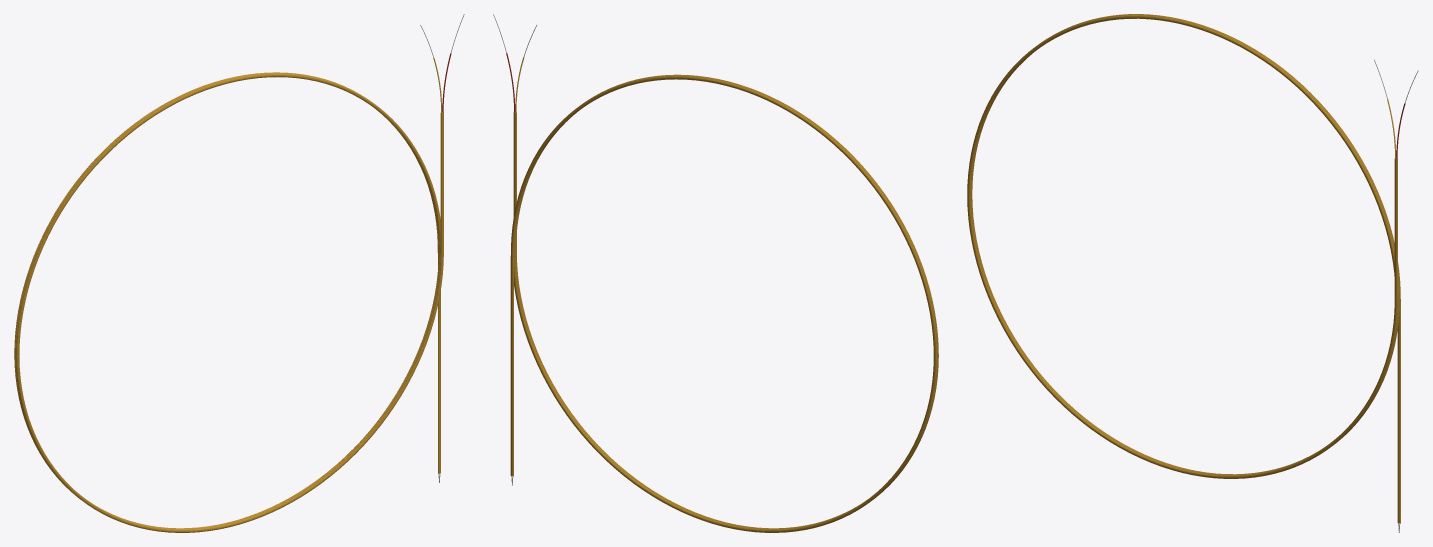
The model's file is prepared_tc_06.glb.
3 renders of one model, left to right at view 1: azimuth 30°, elevation 25°; view 2: azimuth 150°, elevation 25°; view 3: azimuth 330°, elevation 25°, orthographic.
Visible parts, largest first — view 1: pfa_outer_jacket; view 2: pfa_outer_jacket; view 3: pfa_outer_jacket.
Boxes of the visible parts, bbox=[...] form: pfa_outer_jacket: bbox=[14, 72, 443, 532]; pfa_outer_jacket: bbox=[510, 74, 938, 532]; pfa_outer_jacket: bbox=[967, 14, 1400, 523].
Bounding box in the file's own units: 0.1008 × 0.1002 × 0.00152.
